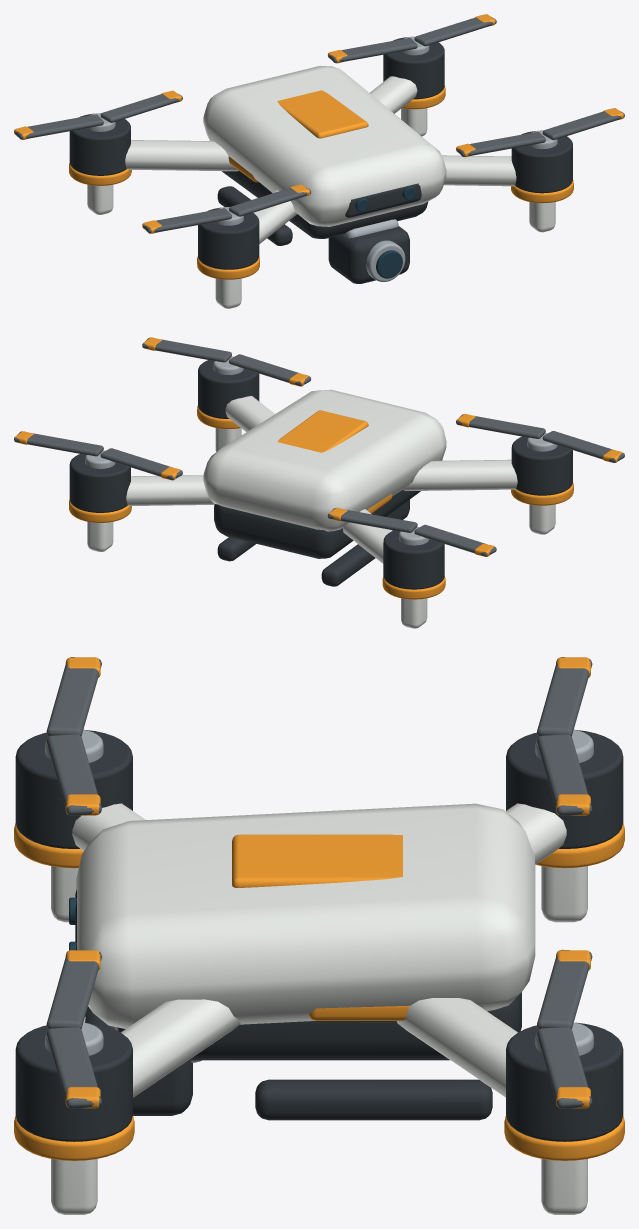
Rendered from d01-amber-CbszJjb5.glb.
3 renders of one model, top to bottom at view 1: azimuth 30°, elevation 25°; view 2: azimuth 150°, elevation 25°; view 3: azimuth 270°, elevation 25°, orthographic. The views are drawn at different scales.
Parts seen in each view (by area): view 1: Upper shell, Arm 3, Motor cap 1, Motor cap 2, Motor cap 3, Top color inlay, Gimbal camera housing, Motor cap 4, Arm 2, Lower chassis, Arm 4, Nose sensors (+21 smaller); view 2: Upper shell, Lower chassis, Arm 1, Motor cap 3, Motor cap 4, Motor cap 1, Arm 4, Motor cap 2, Top color inlay, Landing skid -1, Arm 2, Arm 3 (+17 smaller); view 3: Upper shell, Landing skid 1, Motor cap 2, Motor cap 4, Lower chassis, Top color inlay, Motor cap 1, Motor cap 3, Arm 4, Arm 2, Blade 1 1, Blade 3 1 (+18 smaller).
Boxes of the visible parts, x1=… form: Upper shell: x1=203, y1=66, x2=446, y2=226; Arm 3: x1=125, y1=140, x2=238, y2=171; Motor cap 1: x1=198, y1=207, x2=259, y2=269; Motor cap 2: x1=511, y1=131, x2=572, y2=193; Motor cap 3: x1=69, y1=113, x2=130, y2=175; Top color inlay: x1=277, y1=90, x2=368, y2=138; Gimbal camera housing: x1=328, y1=226, x2=409, y2=283; Motor cap 4: x1=383, y1=37, x2=444, y2=99; Arm 2: x1=442, y1=155, x2=516, y2=186; Lower chassis: x1=222, y1=170, x2=427, y2=238; Arm 4: x1=370, y1=76, x2=417, y2=113; Nose sensors: x1=345, y1=183, x2=421, y2=217; Upper shell: x1=203, y1=389, x2=446, y2=531; Lower chassis: x1=214, y1=490, x2=420, y2=558; Arm 1: x1=403, y1=459, x2=517, y2=490; Motor cap 3: x1=383, y1=530, x2=444, y2=589; Motor cap 4: x1=69, y1=454, x2=130, y2=512; Motor cap 1: x1=511, y1=436, x2=572, y2=495; Arm 4: x1=126, y1=475, x2=214, y2=505; Motor cap 2: x1=198, y1=360, x2=259, y2=418; Top color inlay: x1=277, y1=410, x2=368, y2=452; Landing skid -1: x1=321, y1=530, x2=393, y2=586; Arm 2: x1=225, y1=396, x2=274, y2=431; Arm 3: x1=342, y1=509, x2=392, y2=563; Upper shell: x1=76, y1=803, x2=535, y2=1028; Landing skid 1: x1=255, y1=1079, x2=492, y2=1120; Motor cap 2: x1=15, y1=1022, x2=132, y2=1141; Motor cap 4: x1=506, y1=1022, x2=623, y2=1141; Lower chassis: x1=117, y1=992, x2=521, y2=1060; Top color inlay: x1=232, y1=834, x2=402, y2=887; Motor cap 1: x1=15, y1=729, x2=132, y2=848; Motor cap 3: x1=506, y1=729, x2=623, y2=848; Arm 4: x1=396, y1=998, x2=517, y2=1097; Arm 2: x1=121, y1=999, x2=240, y2=1097; Blade 1 1: x1=46, y1=734, x2=101, y2=815; Blade 3 1: x1=537, y1=734, x2=592, y2=815.
Size of the model in its own units: 2.7 by 0.6883 by 1.57.
